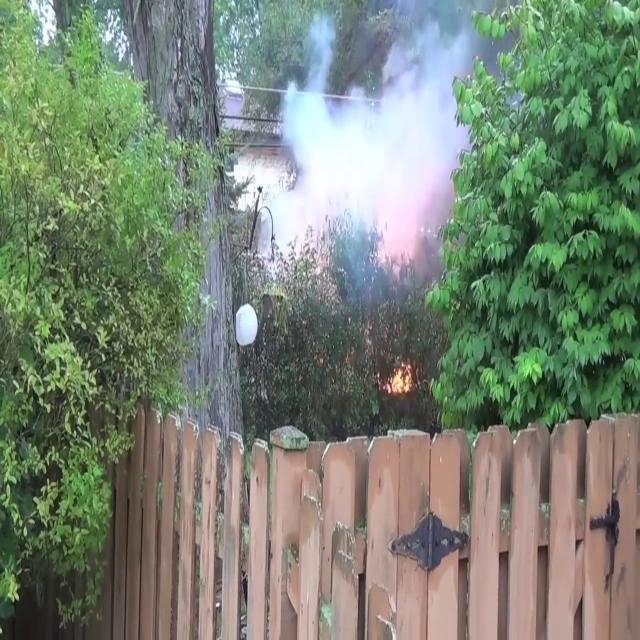Smoke: (269, 4, 469, 272)
